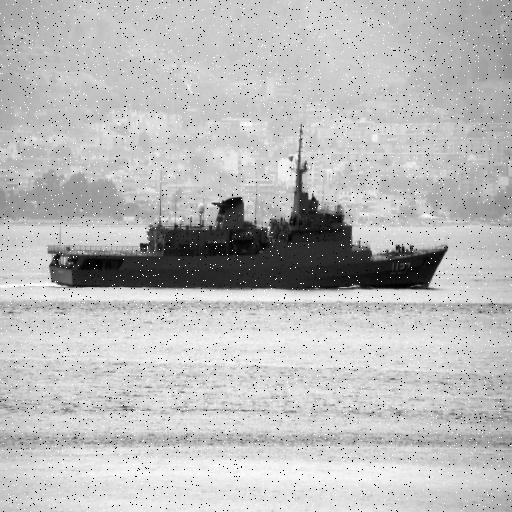Fragata: (48, 121, 453, 294)
